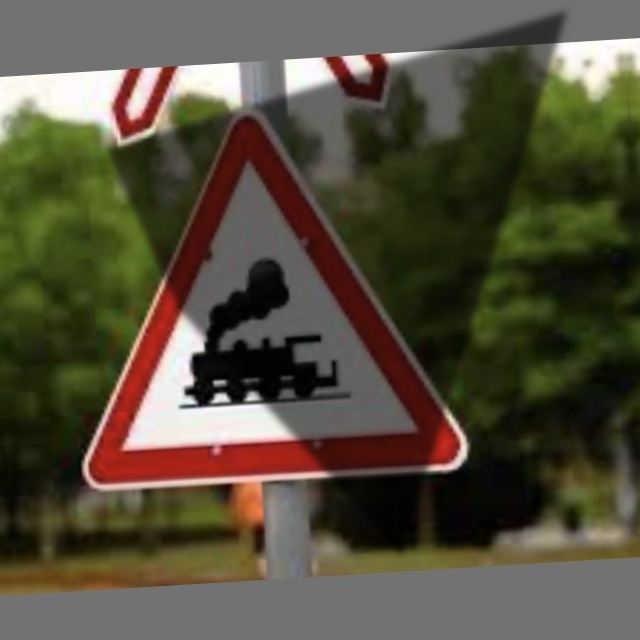Unguarded_Level_Crossing: (48, 111, 491, 500)
